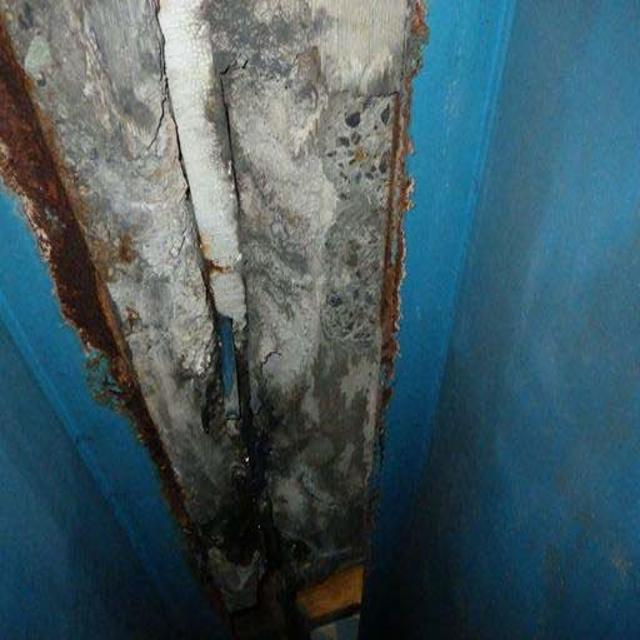corrosion: (1, 38, 190, 543), (363, 39, 483, 497)
spalling: (238, 37, 346, 393)
